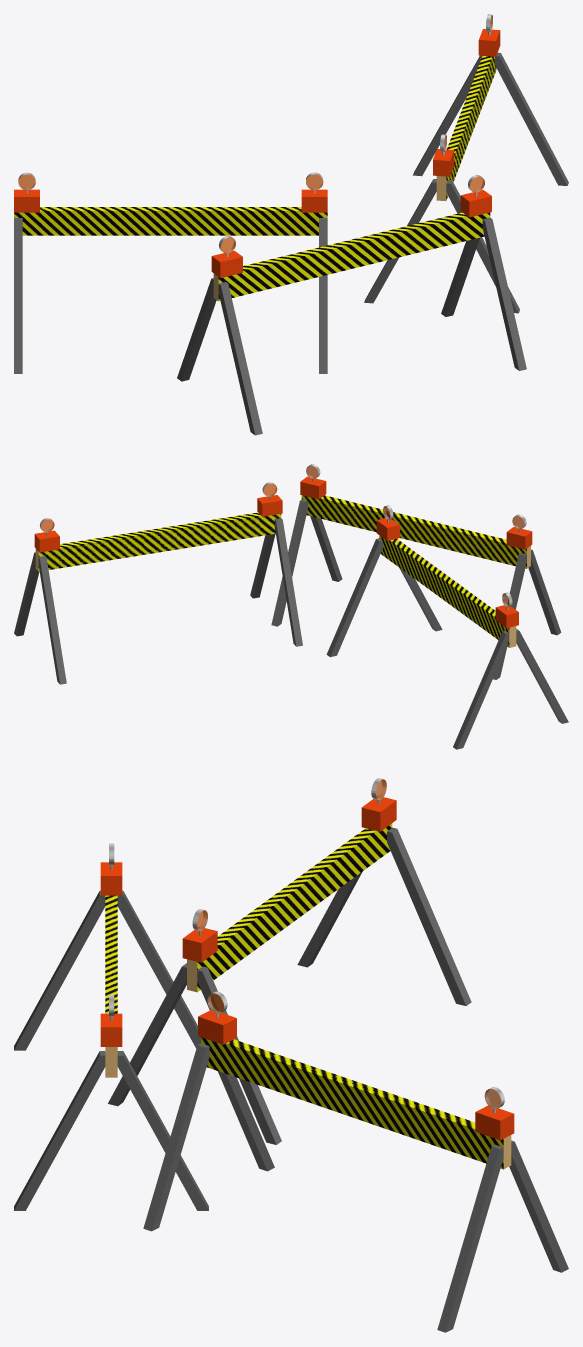
Rendered from warehouse_deactivated1.glb.
The picture shows the model from 3 angles, top to bottom: view 1: azimuth 30°, elevation 25°; view 2: azimuth 150°, elevation 25°; view 3: azimuth 270°, elevation 25°; orthographic projection. The views are drawn at different scales.
Parts seen in each view (by area): view 1: root; view 2: root; view 3: root.
Boxes of the visible parts, x1=… form: root: x1=14, y1=14, x2=568, y2=435; root: x1=14, y1=464, x2=568, y2=749; root: x1=14, y1=778, x2=568, y2=1332.
Bounding box in the file's own units: 2111 × 575 × 1332.
6 materials, 3 textured.
